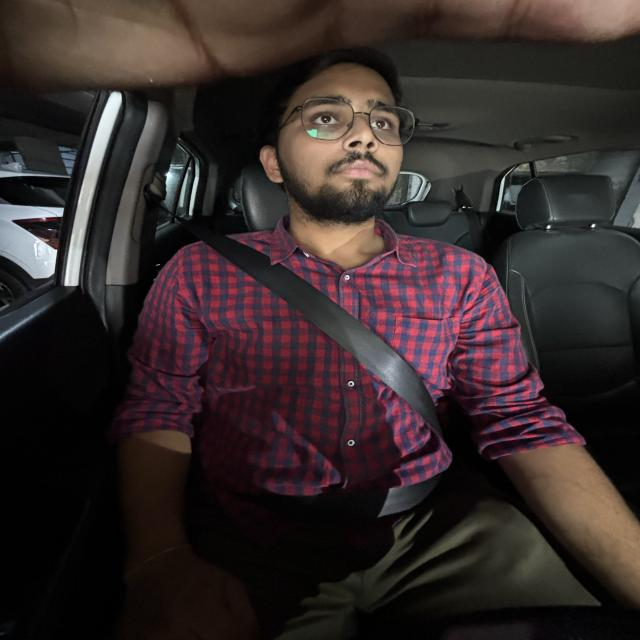seatbelt: (144, 224, 482, 490)
